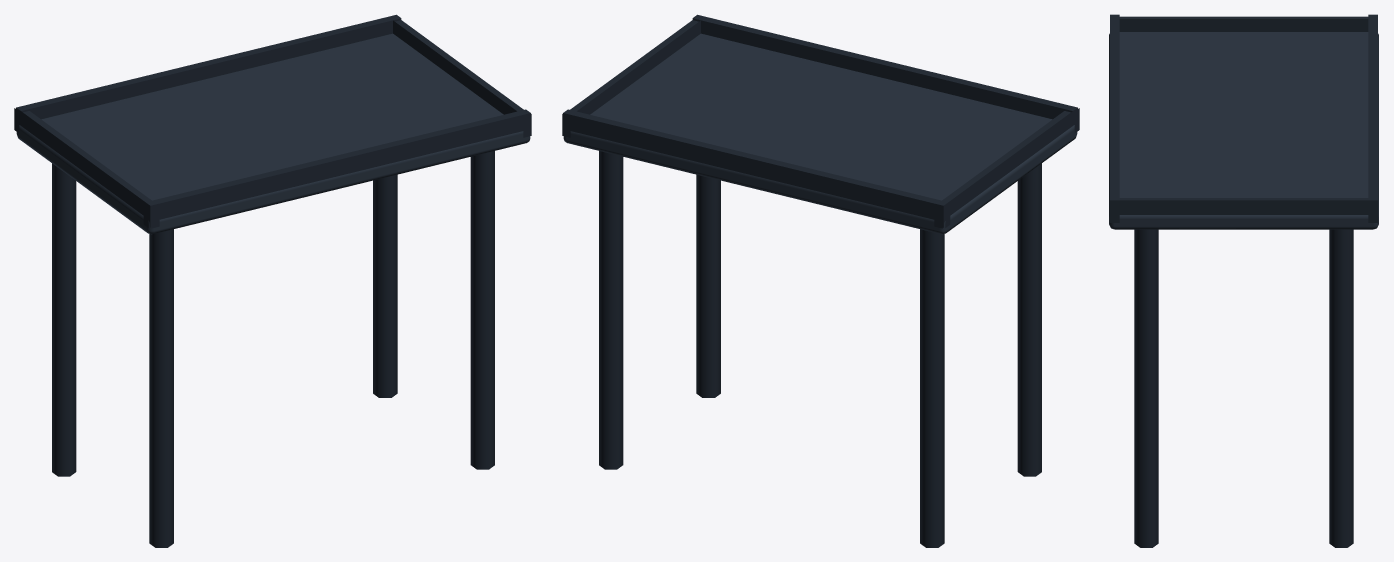
Rendered from bandeja_pecas.glb.
3 renders of one model, left to right at view 1: azimuth 30°, elevation 25°; view 2: azimuth 150°, elevation 25°; view 3: azimuth 270°, elevation 25°, orthographic.
Parts seen in each view (by area): view 1: bandeja_malha; view 2: bandeja_malha; view 3: bandeja_malha.
Boxes of the visible parts, <box> form: bandeja_malha: <box>14,14,531,547</box>; bandeja_malha: <box>562,14,1079,547</box>; bandeja_malha: <box>1109,14,1378,547</box>.
Size of the model in its own units: 0.908 by 0.81 by 0.558.
